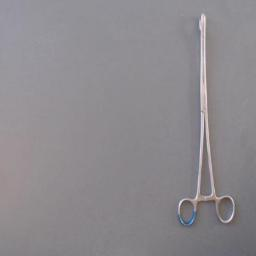Sponge Forceps: (175, 8, 237, 230)
